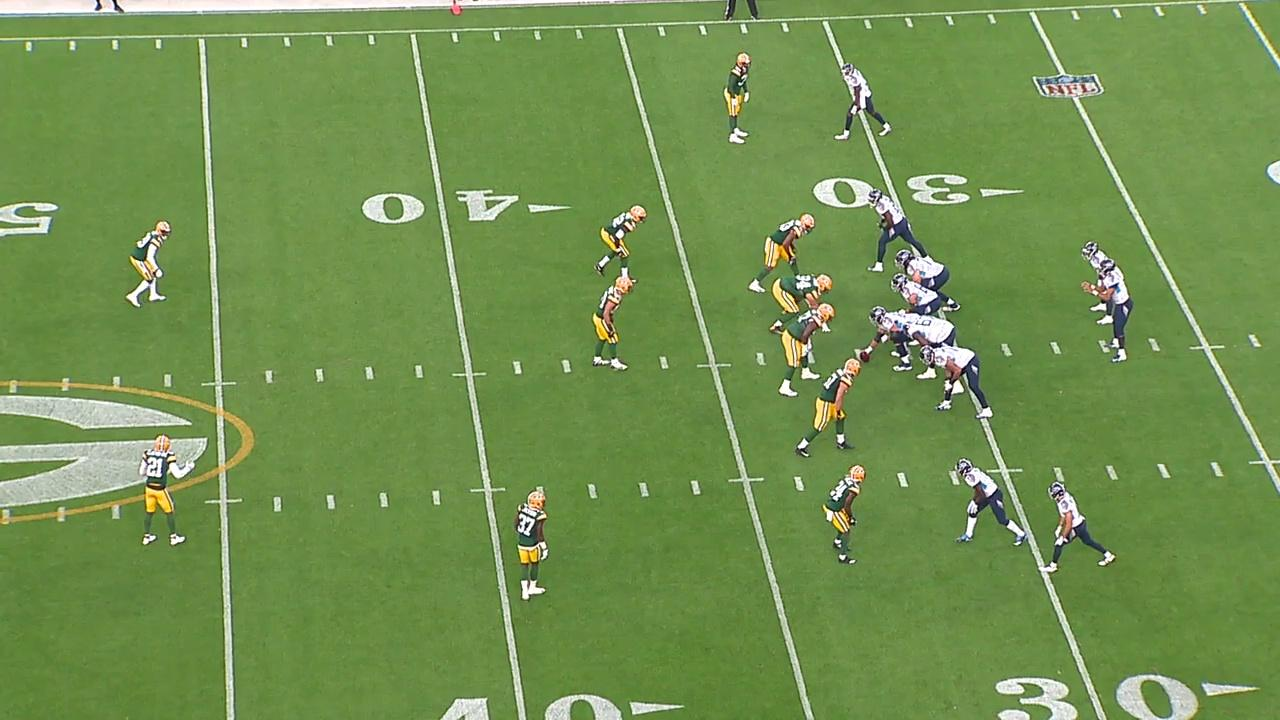five_hash: (199, 380, 239, 387), (984, 467, 1024, 474), (1188, 344, 1226, 351), (451, 371, 488, 378), (204, 498, 244, 504), (470, 487, 508, 493), (695, 363, 733, 369), (727, 477, 765, 483), (1246, 459, 1280, 463)
hash: (1154, 461, 1173, 481), (1104, 464, 1122, 483), (376, 490, 393, 510), (269, 494, 285, 515), (1046, 340, 1064, 358), (1208, 460, 1225, 479), (791, 474, 808, 493), (261, 366, 277, 386), (311, 367, 329, 384), (361, 364, 378, 382), (410, 363, 427, 381), (1051, 465, 1068, 483), (893, 471, 910, 489), (687, 478, 704, 496), (558, 357, 574, 376), (997, 342, 1016, 358), (1096, 337, 1112, 356), (160, 372, 176, 390), (510, 360, 527, 376), (1146, 336, 1162, 353), (945, 469, 961, 486), (636, 481, 652, 498), (324, 493, 339, 511), (656, 355, 672, 371), (753, 350, 769, 366), (1246, 332, 1262, 348), (429, 488, 443, 506), (585, 483, 599, 500)
